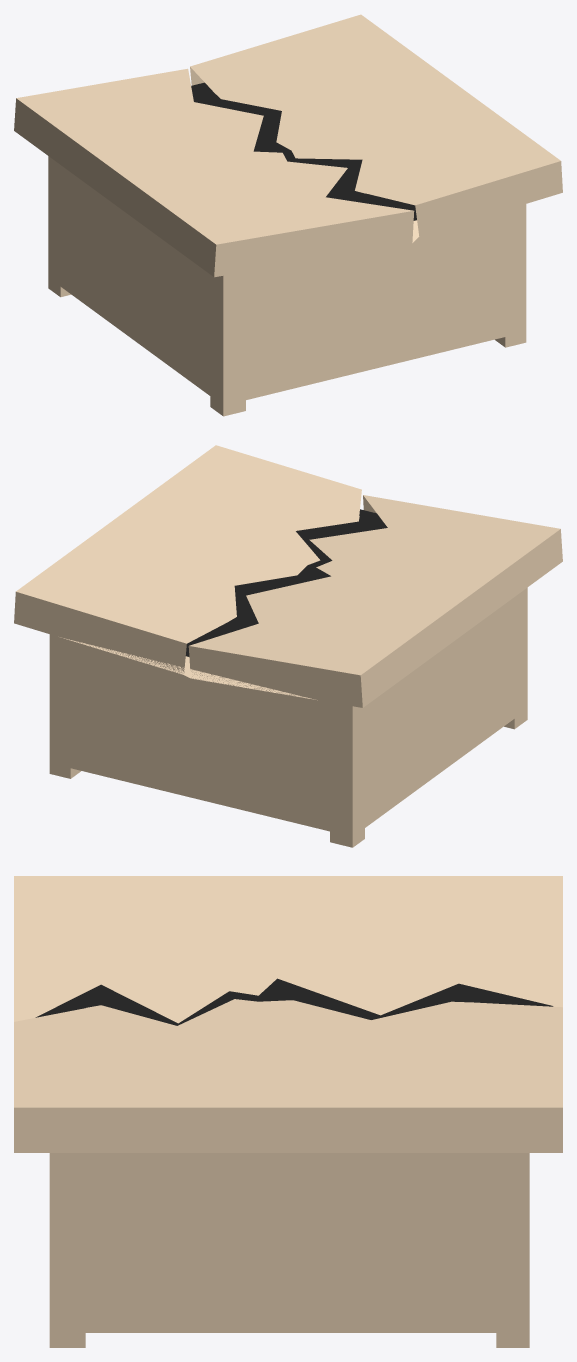
File: broken_table.fbx
3 renders of one model, top to bottom at view 1: azimuth 30°, elevation 25°; view 2: azimuth 150°, elevation 25°; view 3: azimuth 270°, elevation 25°, orthographic. The views are drawn at different scales.
Visible parts, largest first — view 1: table, Plane; view 2: table, Plane; view 3: table, Plane.
Boxes of the visible parts, x1,y1,x2,y2 form: table: (14,14,562,416); Plane: (191,82,416,220); table: (14,445,562,847); Plane: (185,509,387,656); table: (14,876,562,1347); Plane: (35,978,553,1025).
Size of the model in its own units: 201 by 103 by 200.
